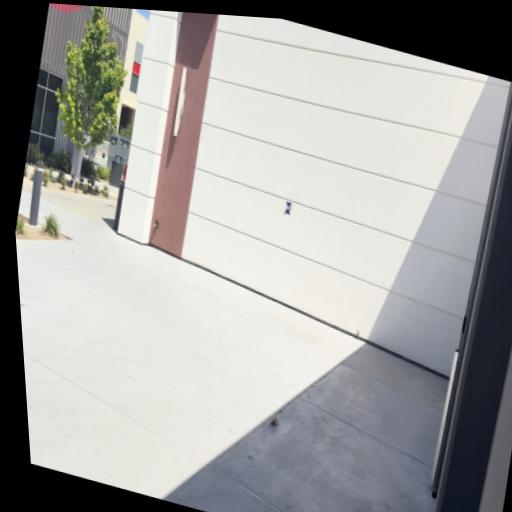target0: (283, 200, 294, 215)
